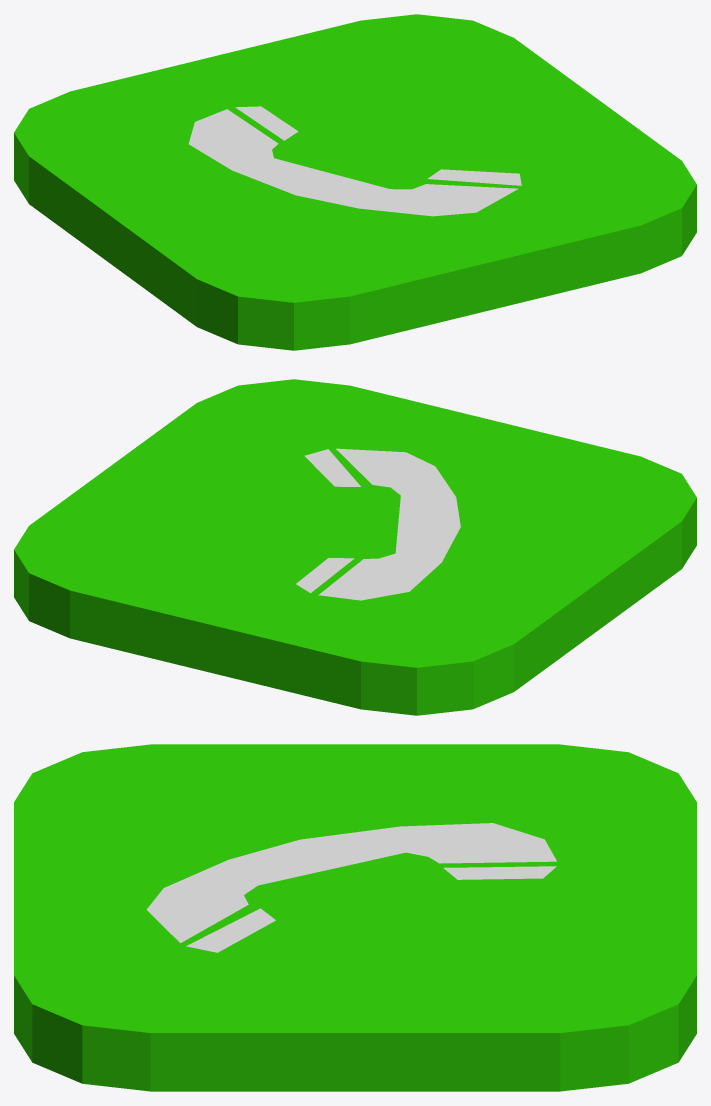
Rendered from app_telfbx.fbx.
3 views of the same model, one above another, from view 1: azimuth 30°, elevation 25°; view 2: azimuth 150°, elevation 25°; view 3: azimuth 270°, elevation 25° (orthographic). The views are drawn at different scales.
Parts seen in each view (by area): view 1: Cube.004; view 2: Cube.004; view 3: Cube.004.
Boxes of the visible parts, x1,y1,x2,y2 form: Cube.004: (14, 14, 696, 350); Cube.004: (14, 379, 696, 715); Cube.004: (14, 744, 696, 1091).
Size of the model in its own units: 1000 by 94.4 by 1000.
